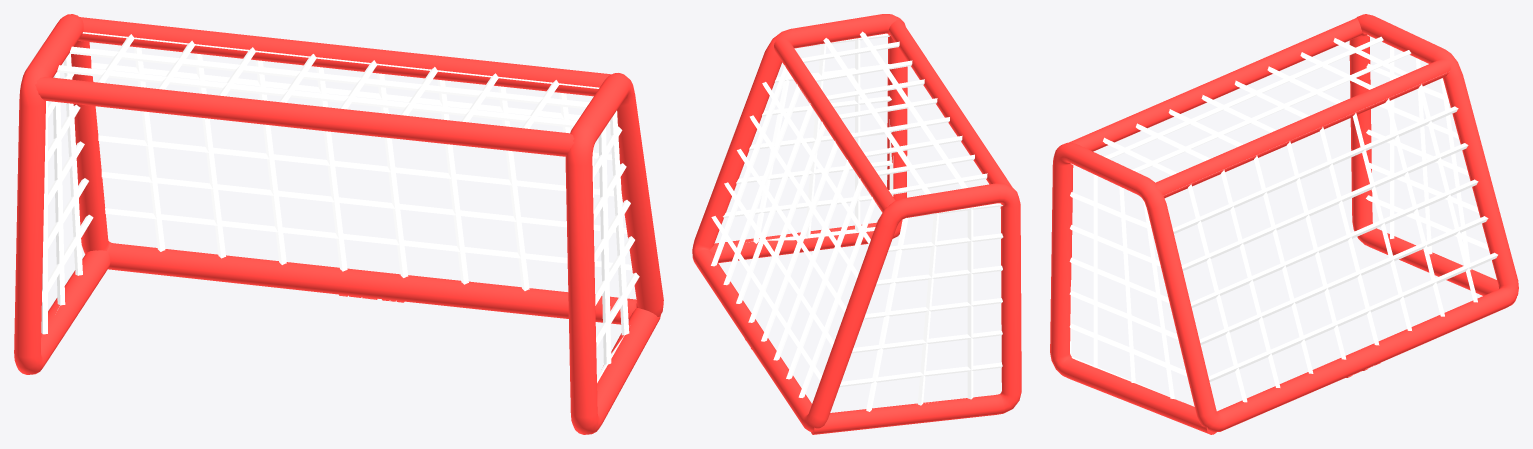
File: goal_net.gltf
The picture shows the model from 3 angles, left to right: view 1: azimuth 30°, elevation 25°; view 2: azimuth 150°, elevation 25°; view 3: azimuth 270°, elevation 25°; orthographic projection. The views are drawn at different scales.
Visible parts, largest first — view 1: Plane.306; view 2: Plane.306; view 3: Plane.306.
Boxes of the visible parts, x1,y1,x2,y2 form: Plane.306: [14, 14, 663, 434]; Plane.306: [692, 14, 1021, 434]; Plane.306: [1050, 14, 1518, 434].
Bounding box in the file's own units: 2.19 × 1.19 × 2.17.
Materials: 1 (1 with a texture image).
